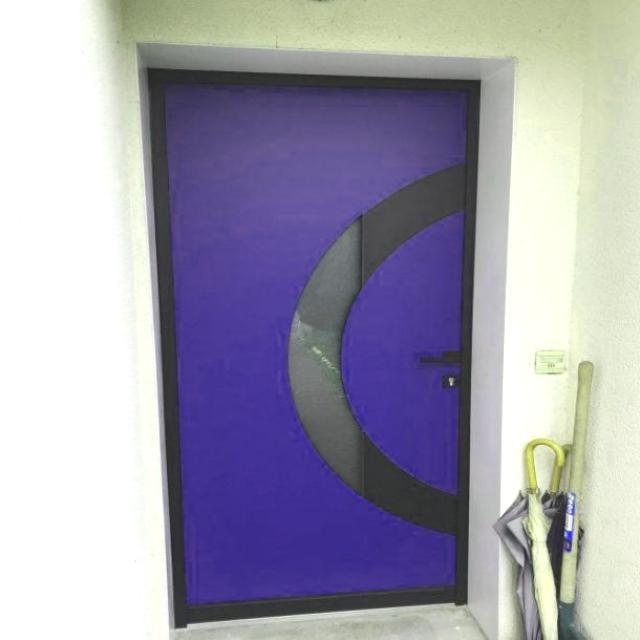door: (144, 60, 481, 624)
